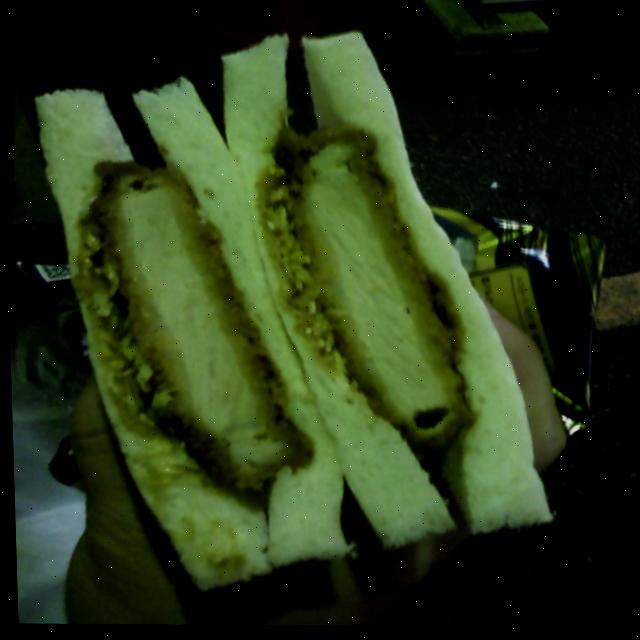三明治: (30, 0, 599, 607)
